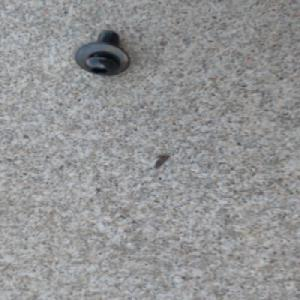BoltWasher: (72, 29, 134, 77)
